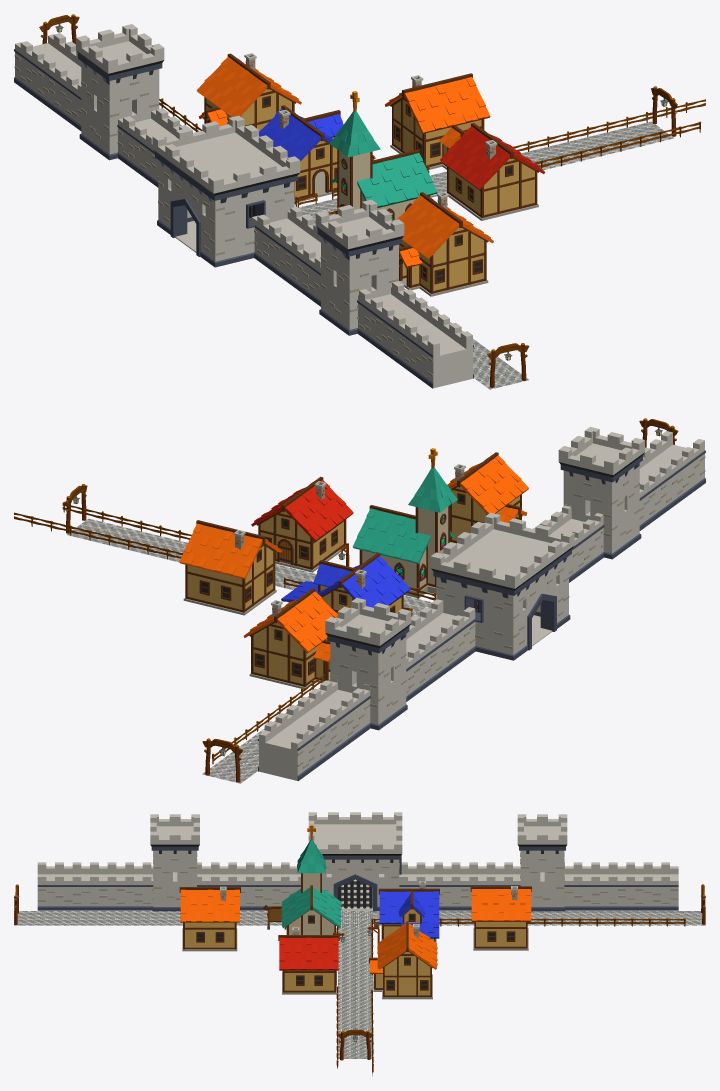
The model's file is __map.fbx.
The picture shows the model from 3 angles, top to bottom: view 1: azimuth 30°, elevation 25°; view 2: azimuth 150°, elevation 25°; view 3: azimuth 270°, elevation 25°; orthographic projection. The views are drawn at different scales.
Parts seen in each view (by area): view 1: Rampart_Gate_01, Rampart_DefensiveTower_01.001, Rampart_DefensiveTower_01, Rampart_Corridor_01.001, House_03.001, House_01, Church_01.001, House_03.002, House_03, House_02, Rampart_Corridor_01.003, Rampart_Corridor_01.002 (+6 smaller); view 2: Rampart_Gate_01, Rampart_DefensiveTower_01, Rampart_DefensiveTower_01.001, Rampart_Corridor_01.002, House_03.002, Church_01.001, House_03, House_01, Rampart_Corridor_01, House_03.001, Rampart_Corridor_01.001, House_02 (+7 smaller); view 3: Rampart_Gate_01, Rampart_Corridor_01.001, Rampart_Corridor_01.002, Floor_StonePaving_01, Rampart_DefensiveTower_01.001, House_03.002, Rampart_DefensiveTower_01, House_03, House_03.001, Rampart_Corridor_01, House_01, Church_01.001 (+7 smaller).
Boxes of the visible parts, box(x1,y1,x2,y2) form: Rampart_Gate_01: box(152, 115, 300, 267); Rampart_DefensiveTower_01.001: box(76, 24, 164, 160); Rampart_DefensiveTower_01: box(315, 199, 404, 335); Rampart_Corridor_01.001: box(357, 281, 473, 388); House_03.001: box(396, 191, 493, 296); House_01: box(440, 123, 544, 220); Church_01.001: box(329, 91, 437, 220); House_03.002: box(385, 73, 490, 169); House_03: box(196, 53, 301, 131); House_02: box(259, 105, 343, 202); Rampart_Corridor_01.003: box(251, 206, 320, 306); Rampart_Corridor_01.002: box(14, 33, 81, 130); Rampart_Gate_01: box(430, 512, 574, 660); Rampart_DefensiveTower_01: box(558, 426, 644, 559); Rampart_DefensiveTower_01.001: box(325, 598, 411, 730); Rampart_Corridor_01.002: box(258, 676, 370, 781); House_03.002: box(179, 520, 282, 615); Church_01.001: box(352, 448, 457, 598); House_03: box(243, 588, 337, 688); House_01: box(251, 476, 353, 572); Rampart_Corridor_01: box(406, 599, 475, 701); House_03.001: box(447, 452, 528, 543); Rampart_Corridor_01.001: box(639, 431, 705, 530); House_02: box(281, 553, 410, 613); Rampart_Gate_01: box(308, 812, 402, 911); Rampart_Corridor_01.001: box(37, 862, 153, 910); Rampart_Corridor_01.002: box(564, 862, 678, 910); Floor_StonePaving_01: box(338, 911, 372, 1058); Rampart_DefensiveTower_01.001: box(517, 814, 567, 911); House_03.002: box(369, 921, 437, 999); Rampart_DefensiveTower_01: box(150, 814, 199, 911); House_03: box(470, 886, 531, 950); House_03.001: box(179, 886, 240, 951); Rampart_Corridor_01: box(399, 862, 520, 910); House_01: box(278, 927, 339, 994); Church_01.001: box(281, 824, 341, 934).
Size of the model in its own units: 5393 by 1360 by 7905.
37 materials, 37 textured.
